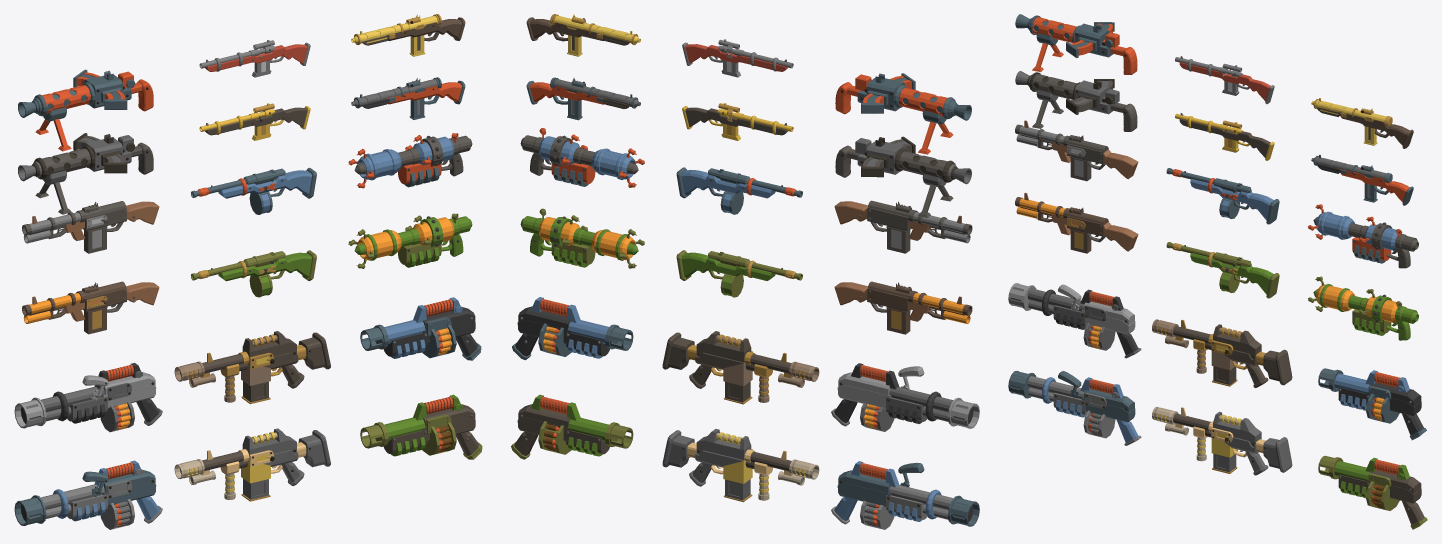
The model's file is GUNS.fbx.
3 views of the same model, side by side, from view 1: azimuth 30°, elevation 25°; view 2: azimuth 150°, elevation 25°; view 3: azimuth 330°, elevation 25° (orthographic). The views are drawn at different scales.
Parts seen in each view (by area): view 1: Gun_13, Gun_14, Gun_15, Gun_16, Gun_18, Gun_17, Gun_2, Gun_1, Gun_12, Gun_11, Gun_8, Gun_7 (+6 smaller); view 2: Gun_14, Gun_13, Gun_16, Gun_15, Gun_18, Gun_17, Gun_2, Gun_1, Gun_12, Gun_11, Gun_8, Gun_7 (+6 smaller); view 3: Gun_14, Gun_13, Gun_15, Gun_16, Gun_18, Gun_17, Gun_2, Gun_1, Gun_11, Gun_12, Gun_7, Gun_8 (+6 smaller).
Part boxes in pixels (box(x1,y1,x2,y2)): Gun_13: box(14, 363, 162, 432); Gun_14: box(14, 460, 162, 529); Gun_15: box(174, 331, 330, 404); Gun_16: box(174, 428, 330, 501); Gun_18: box(360, 394, 482, 459); Gun_17: box(360, 297, 481, 360); Gun_2: box(18, 133, 153, 214); Gun_1: box(18, 69, 153, 151); Gun_12: box(348, 213, 472, 268); Gun_11: box(348, 133, 472, 188); Gun_8: box(22, 281, 159, 334); Gun_7: box(22, 201, 159, 253); Gun_14: box(831, 461, 979, 529); Gun_13: box(831, 363, 979, 431); Gun_16: box(662, 429, 819, 502); Gun_15: box(662, 331, 819, 404); Gun_18: box(511, 394, 633, 459); Gun_17: box(512, 297, 633, 360); Gun_2: box(835, 136, 971, 217); Gun_1: box(835, 73, 971, 154); Gun_12: box(520, 208, 644, 268); Gun_11: box(520, 128, 644, 187); Gun_8: box(834, 281, 972, 334); Gun_7: box(834, 200, 972, 253); Gun_14: box(1008, 371, 1141, 445); Gun_13: box(1008, 283, 1141, 358); Gun_15: box(1152, 319, 1292, 387); Gun_16: box(1152, 407, 1292, 475); Gun_18: box(1318, 455, 1427, 529); Gun_17: box(1318, 368, 1426, 440); Gun_2: box(1015, 71, 1137, 131); Gun_1: box(1015, 14, 1137, 74); Gun_11: box(1308, 204, 1418, 268); Gun_12: box(1308, 276, 1418, 340); Gun_7: box(1015, 120, 1138, 181); Gun_8: box(1015, 192, 1138, 253).
Bounding box in the file's own units: 1270 × 1243 × 204.
